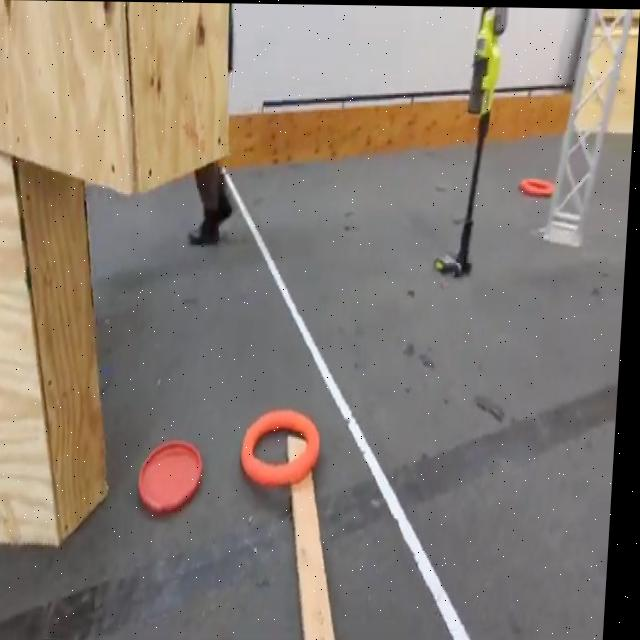note: (243, 409, 327, 483), (519, 174, 556, 196)
